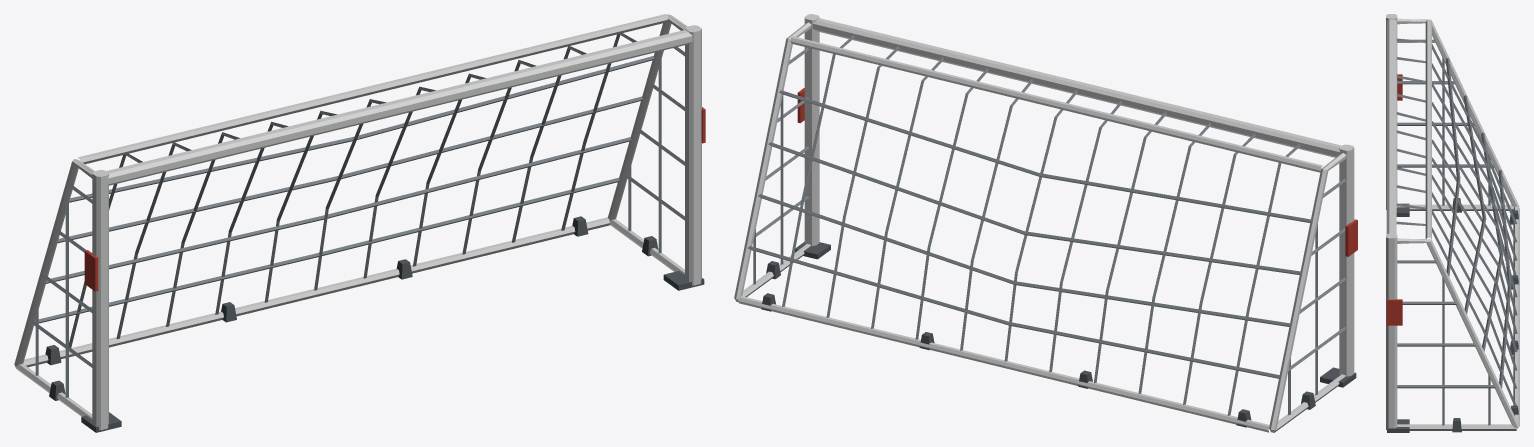
File: football-goal-78fee1.glb
3 views of the same model, side by side, from view 1: azimuth 30°, elevation 25°; view 2: azimuth 150°, elevation 25°; view 3: azimuth 270°, elevation 25° (orthographic). The views are drawn at different scales.
Parts seen in each view (by area): view 1: goal; view 2: goal; view 3: goal.
Boxes of the visible parts, box(x1,y1,x2,y2) form: goal: box(14, 14, 705, 432); goal: box(734, 14, 1357, 432); goal: box(1386, 14, 1519, 432).
Bounding box in the file's own units: 5 × 2 × 1.25.
